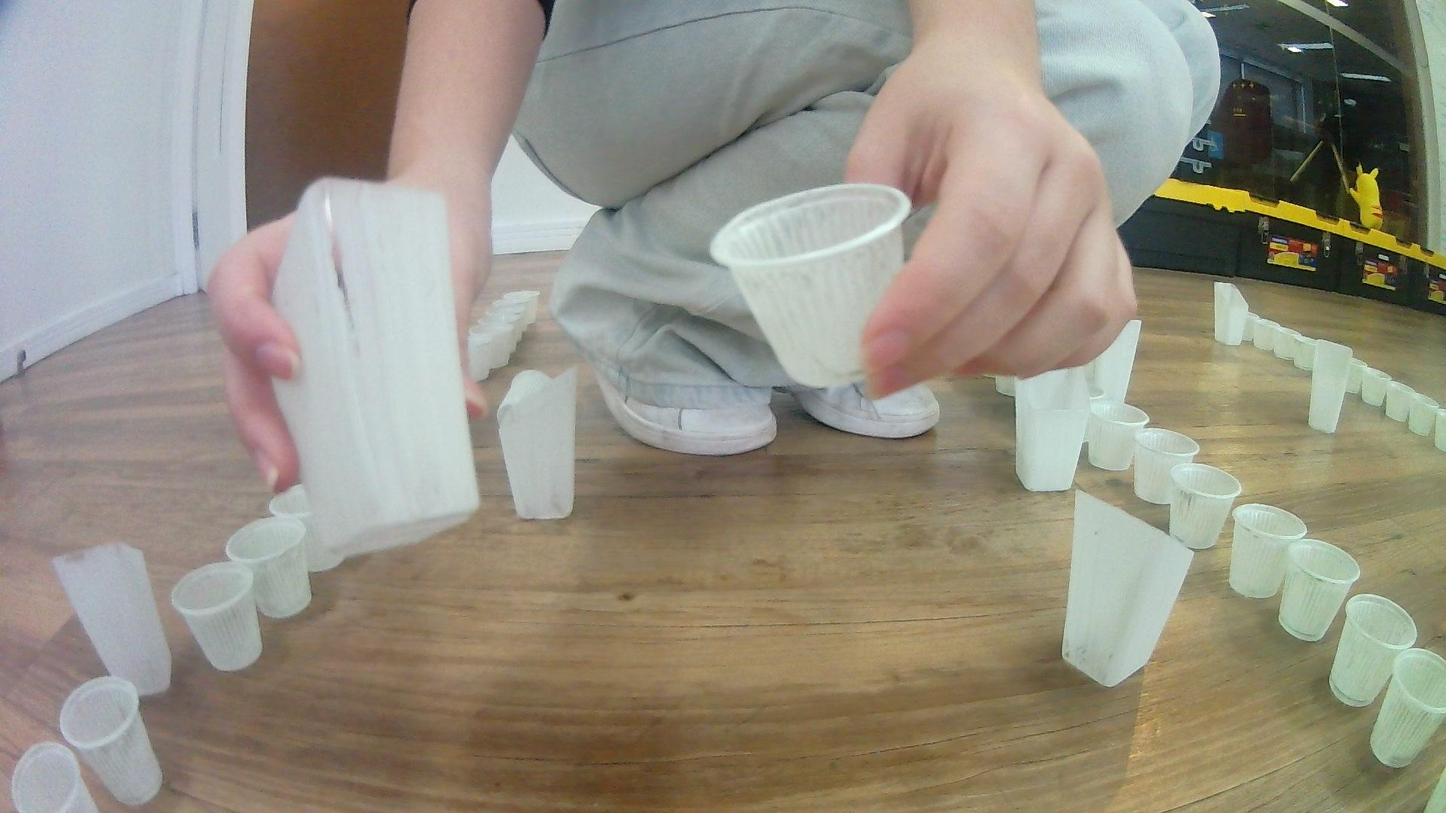erva_daninha: (269, 175, 480, 568), (1060, 488, 1195, 689), (51, 540, 173, 698), (495, 365, 579, 521), (1014, 362, 1096, 493), (1308, 339, 1355, 434), (1093, 319, 1143, 406), (1213, 282, 1249, 346)
planta: (707, 182, 915, 391), (57, 675, 163, 808), (169, 561, 264, 673), (1328, 594, 1419, 709), (1368, 647, 1446, 769), (224, 515, 314, 620), (1276, 537, 1360, 644), (1228, 504, 1308, 600), (1167, 462, 1243, 550), (8, 742, 102, 813), (267, 484, 340, 574), (1130, 427, 1201, 506), (1084, 402, 1152, 472), (472, 316, 514, 368), (465, 325, 495, 382), (485, 306, 523, 351), (490, 300, 532, 339), (1407, 394, 1442, 437), (1384, 381, 1416, 423), (505, 290, 540, 324), (1361, 369, 1390, 407), (1251, 318, 1280, 352), (1272, 327, 1299, 361), (1342, 358, 1367, 394), (1293, 336, 1317, 372), (1243, 311, 1263, 346), (994, 373, 1017, 397), (1434, 408, 1446, 452)
